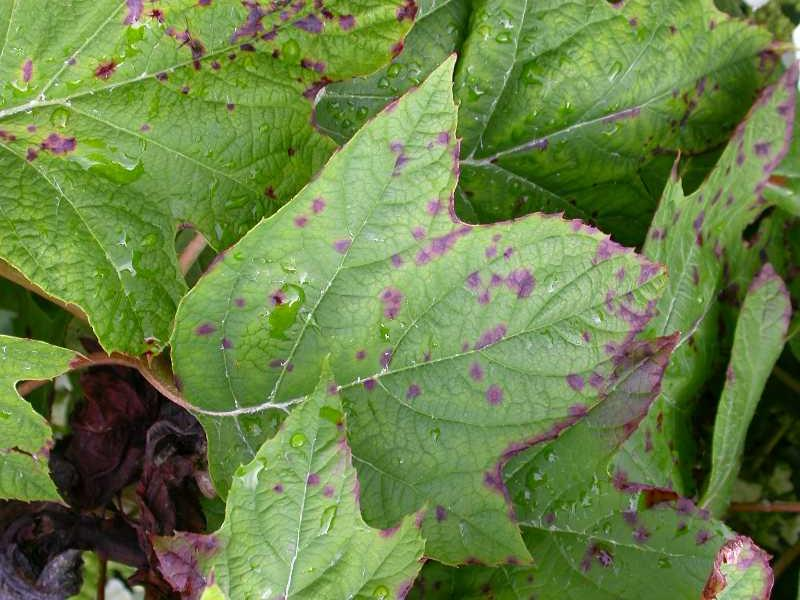Tomato leaf bacterial spot: (182, 51, 673, 469)
